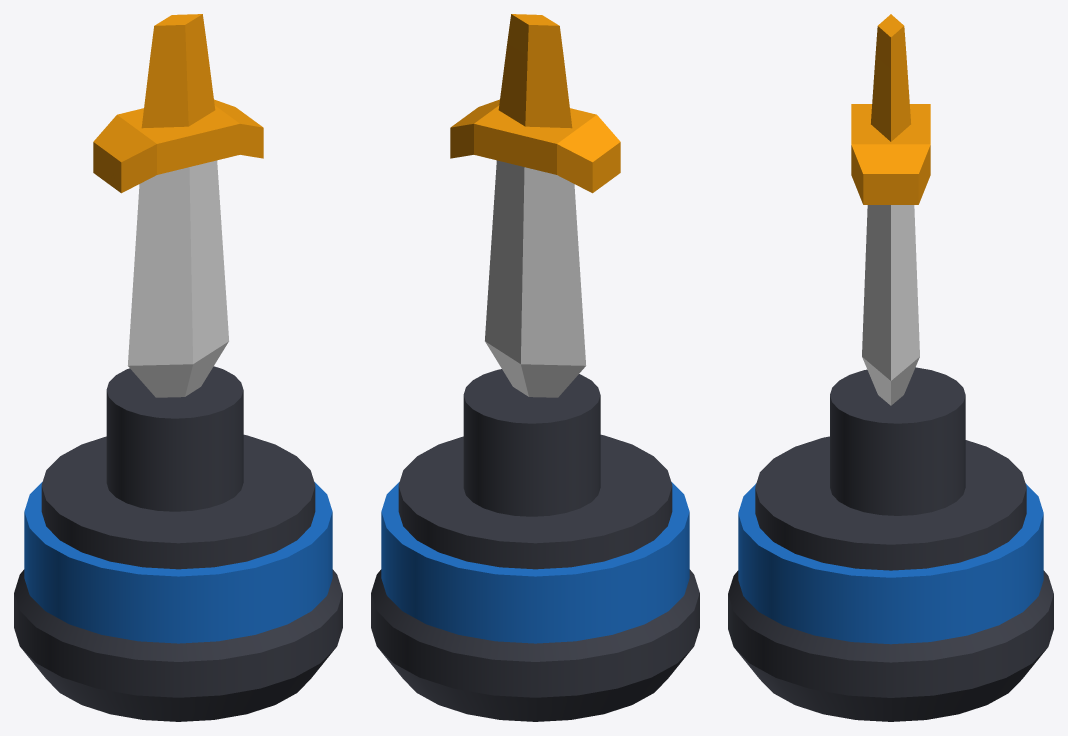
File: tower_silver_knight.obj
3 views of the same model, side by side, from view 1: azimuth 30°, elevation 25°; view 2: azimuth 150°, elevation 25°; view 3: azimuth 270°, elevation 25° (orthographic).
Parts seen in each view (by area): view 1: mergedBlocks; view 2: mergedBlocks; view 3: mergedBlocks.
Boxes of the visible parts, left/top/right/bottom form: mergedBlocks: left=14, top=14, right=342, bottom=721; mergedBlocks: left=371, top=14, right=699, bottom=721; mergedBlocks: left=728, top=14, right=1053, bottom=721.
Bounding box in the file's own units: 0.96 × 2.08 × 0.96.
